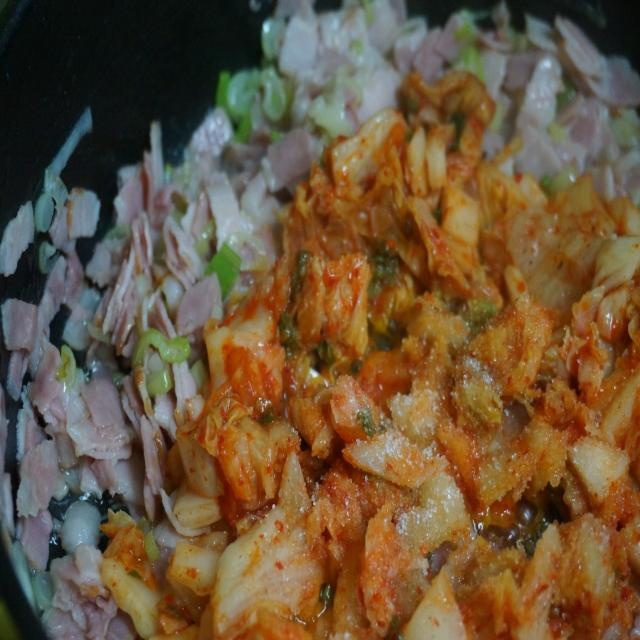Bacon Slice: (477, 15, 640, 202), (15, 344, 140, 571), (99, 121, 204, 353), (175, 107, 323, 271), (0, 170, 100, 400), (277, 0, 406, 138), (42, 545, 116, 640), (0, 202, 34, 274), (143, 293, 175, 338)
